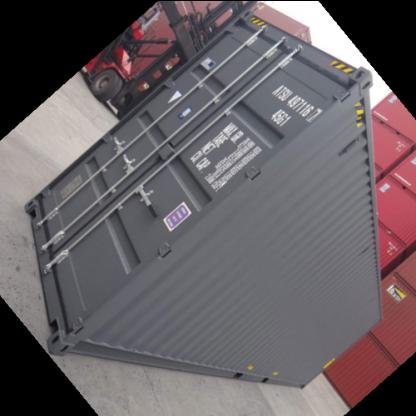Damage: (298, 46, 354, 92), (350, 231, 378, 266)
